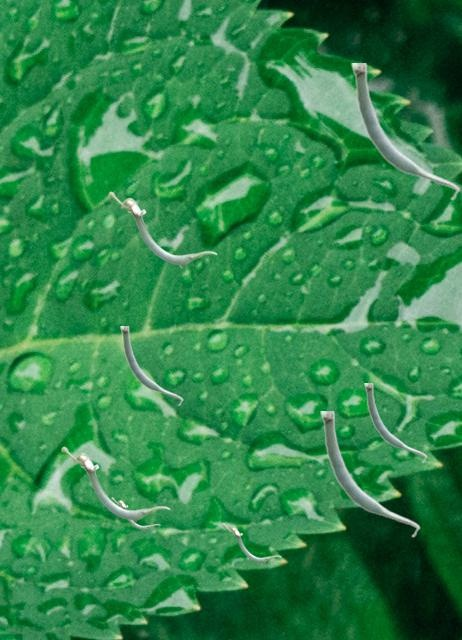french_bean: (351, 63, 459, 200), (320, 411, 419, 537), (108, 191, 216, 267), (61, 446, 169, 522), (120, 326, 182, 405), (364, 383, 426, 462), (222, 523, 280, 563), (111, 497, 159, 530)
